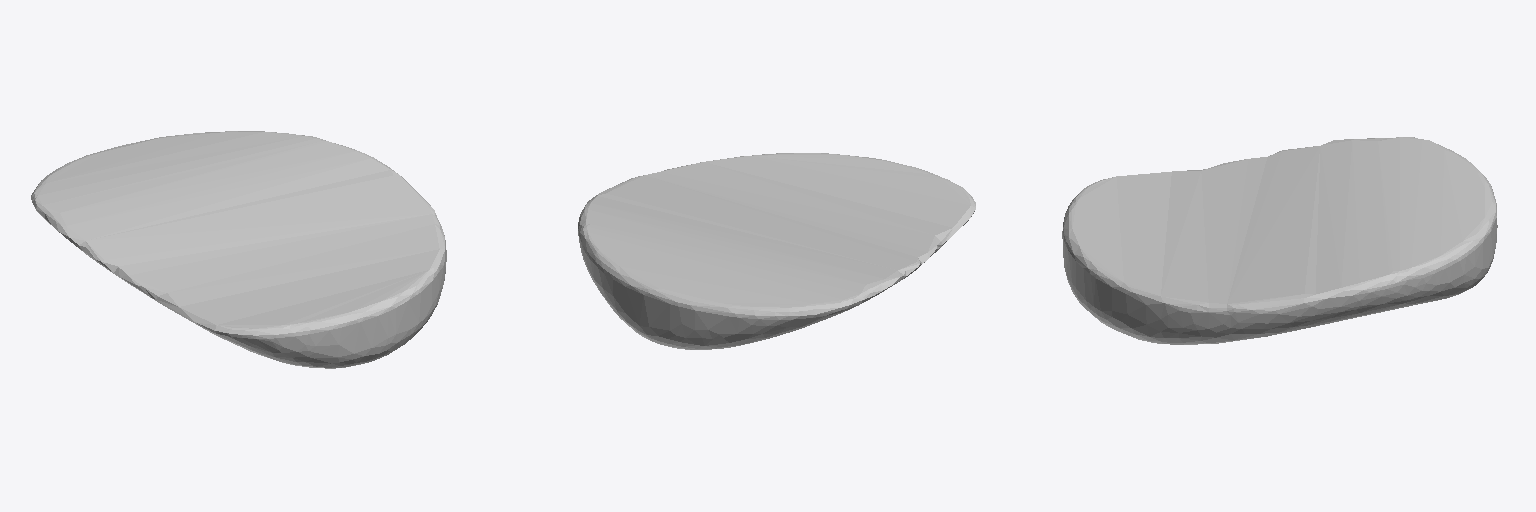
The model's file is dentures-marker.obj.
3 renders of one model, left to right at view 1: azimuth 30°, elevation 25°; view 2: azimuth 150°, elevation 25°; view 3: azimuth 270°, elevation 25°, orthographic.
Size of the model in its own units: 2.53 by 0.6605 by 2.95.